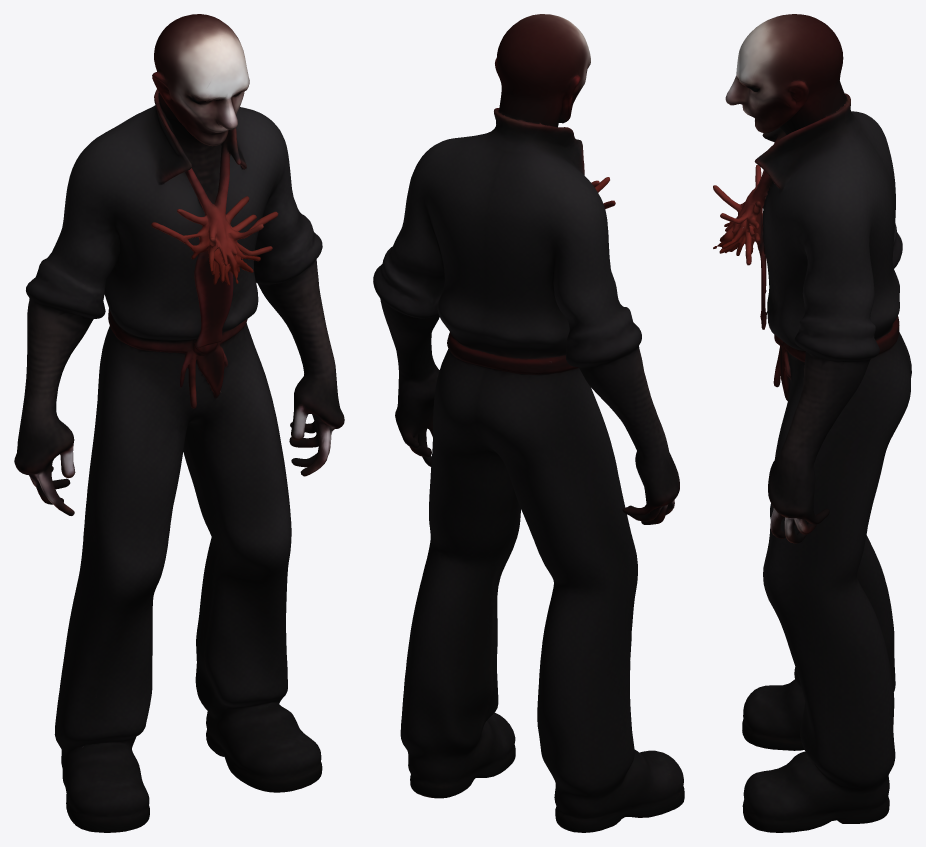
The model's file is cultist.glb.
The picture shows the model from 3 angles, left to right: view 1: azimuth 30°, elevation 25°; view 2: azimuth 150°, elevation 25°; view 3: azimuth 270°, elevation 25°; orthographic projection.
Parts seen in each view (by area): view 1: geometry_0; view 2: geometry_0; view 3: geometry_0.
Boxes of the visible parts, bbox=[...] form: geometry_0: bbox=[14, 14, 344, 832]; geometry_0: bbox=[373, 14, 684, 832]; geometry_0: bbox=[713, 14, 911, 832].
Bounding box in the file's own units: 0.4107 × 1 × 0.2368.
Materials: 1 (1 with a texture image).
